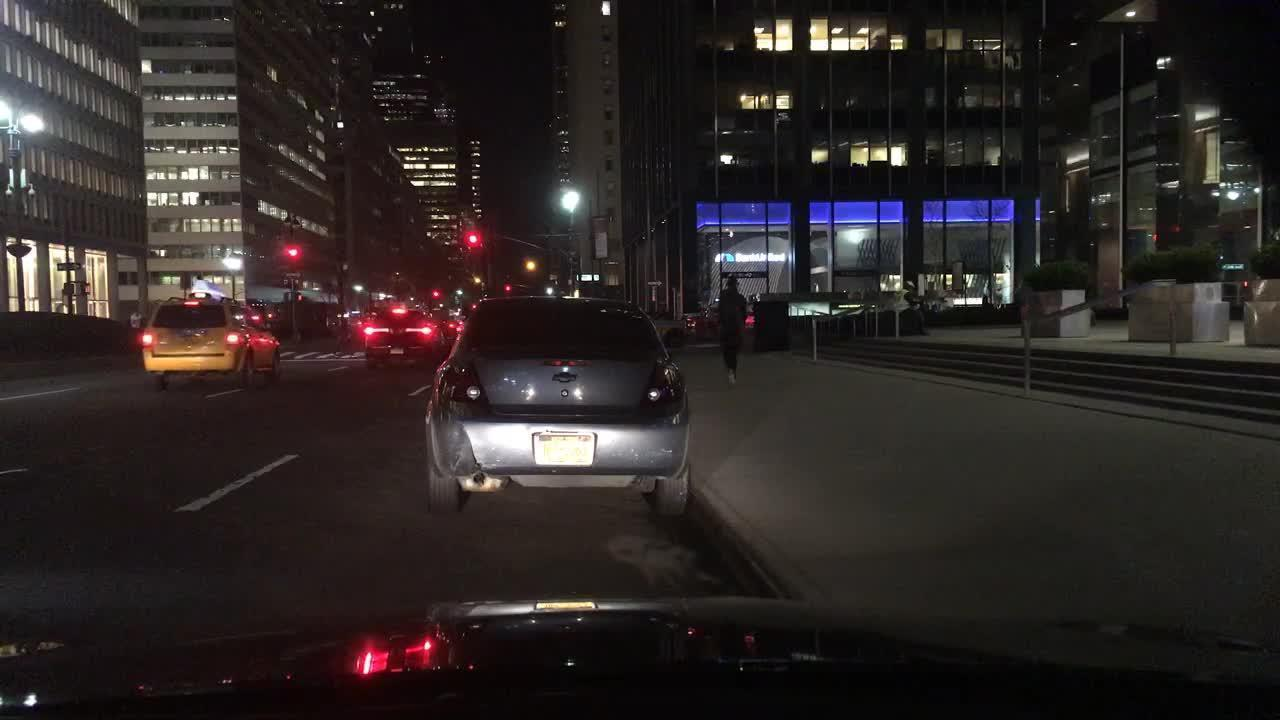chevrolet: (544, 367, 588, 389)
